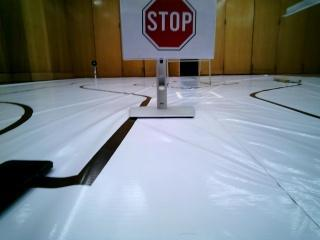stop: (126, 0, 208, 56)
